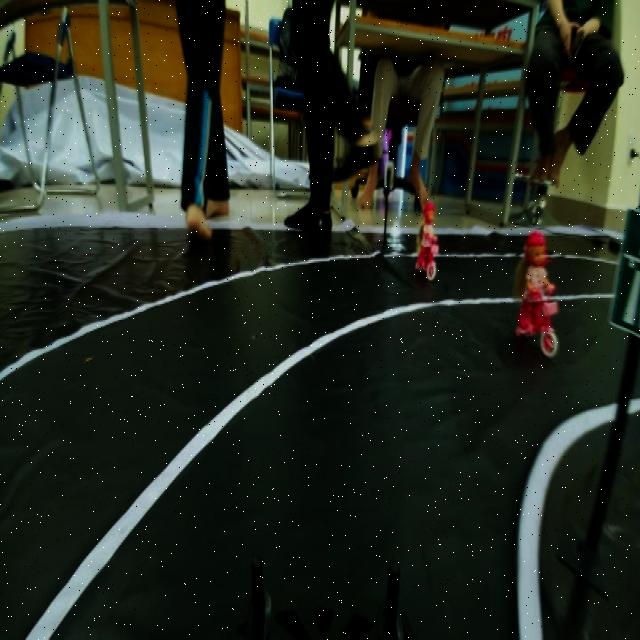highway_entry: (604, 200, 640, 342)
pedestrian: (505, 224, 564, 362), (406, 192, 446, 284)
